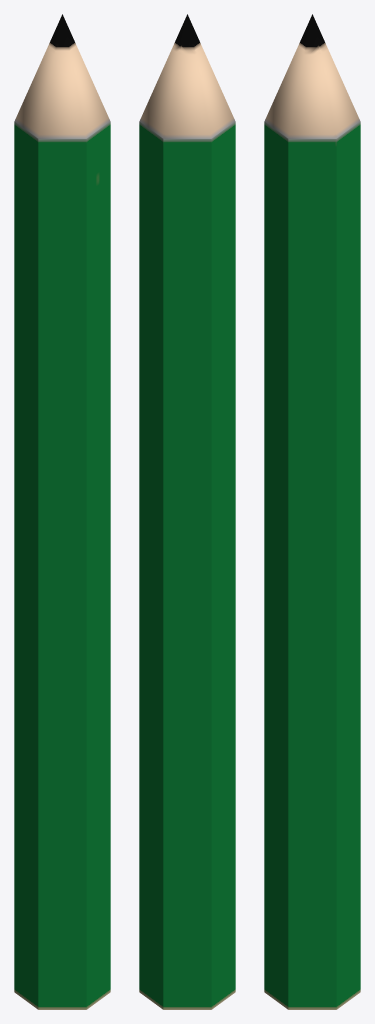
Rendered from pencil.fbx.
3 views of the same model, side by side, from view 1: azimuth 90°, elevation 25°; view 2: azimuth 210°, elevation 25°; view 3: azimuth 270°, elevation 25° (orthographic).
Visible parts, largest first — view 1: pencil; view 2: pencil; view 3: pencil.
Boxes of the visible parts, x1,y1,x2,y2 form: pencil: (14, 14, 110, 1009); pencil: (139, 14, 235, 1009); pencil: (264, 14, 360, 1009).
Size of the model in its own units: 8.18 by 106 by 9.44.
